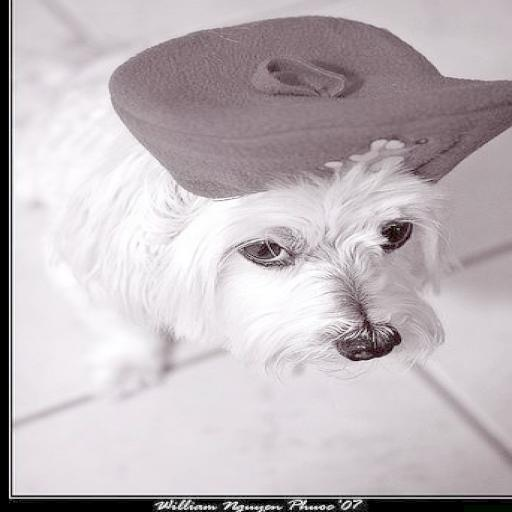dog_face: (148, 139, 472, 372)
